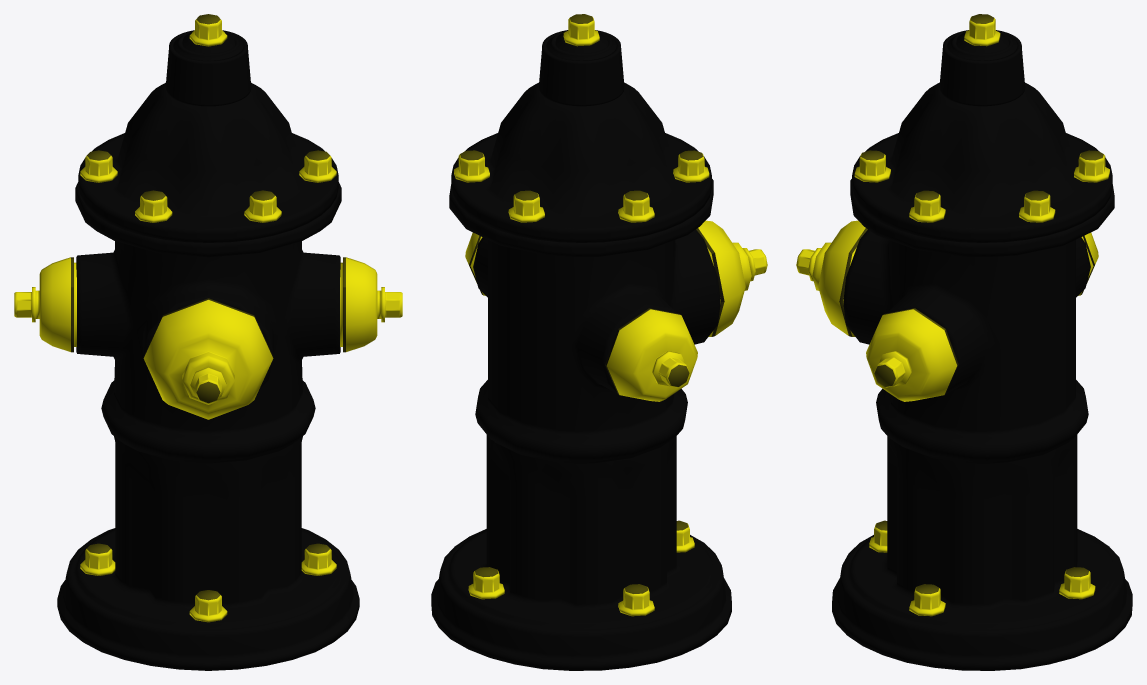
Rendered from fire_hydrant.dae.
3 views of the same model, side by side, from view 1: azimuth 30°, elevation 25°; view 2: azimuth 150°, elevation 25°; view 3: azimuth 270°, elevation 25° (orthographic).
Visible parts, largest first — view 1: fire_hydre; view 2: fire_hydre; view 3: fire_hydre.
Part boxes in pixels (x1=…): fire_hydre: x1=14, y1=14, x2=402, y2=670; fire_hydre: x1=431, y1=14, x2=767, y2=670; fire_hydre: x1=796, y1=14, x2=1132, y2=670.
Bounding box in the file's own units: 2.2 × 2.12 × 4.08.
